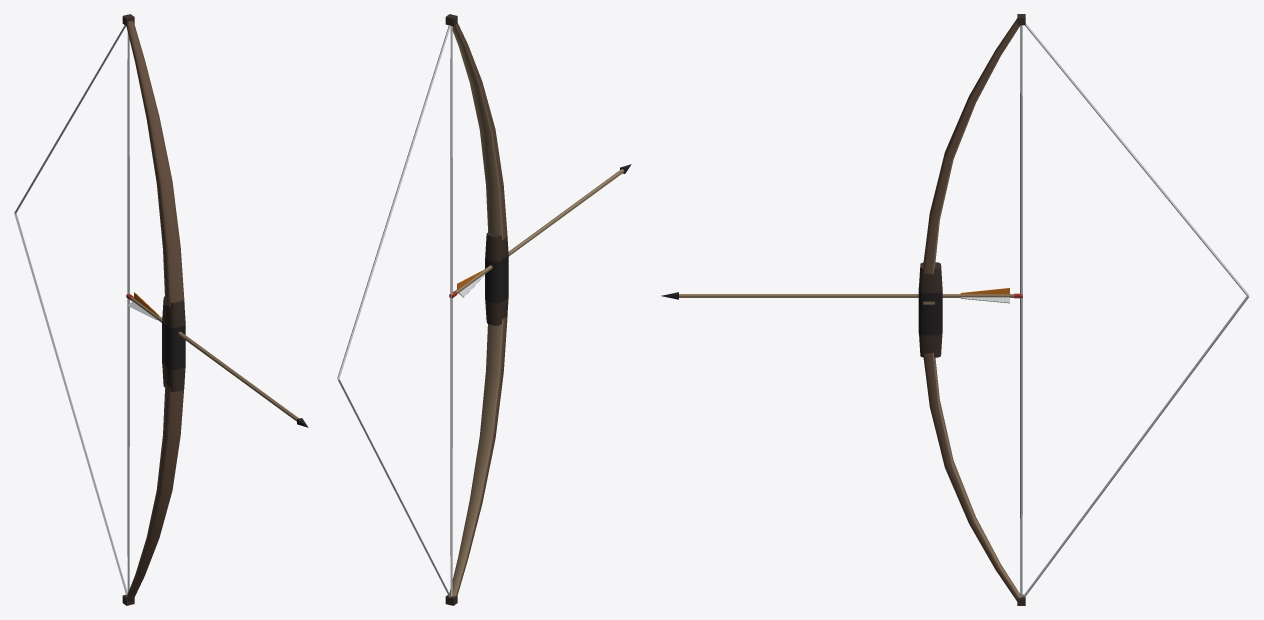
Rendered from bow.glb.
3 renders of one model, left to right at view 1: azimuth 30°, elevation 25°; view 2: azimuth 150°, elevation 25°; view 3: azimuth 270°, elevation 25°, orthographic.
Parts seen in each view (by area): view 1: Weapon, StringDrawn, String, Arrow; view 2: Weapon, String, StringDrawn, Arrow; view 3: Weapon, StringDrawn, Arrow, String.
Part boxes in pixels (x1,y1,x2,y2): Weapon: (122,14,185,605); StringDrawn: (14,25,127,595); String: (127,32,129,593); Arrow: (126,292,308,427); Weapon: (445,14,508,605); String: (450,26,452,596); StringDrawn: (337,25,450,597); Arrow: (449,164,631,298); Weapon: (918,14,1025,605); StringDrawn: (1023,23,1249,596); Arrow: (661,288,1022,303); String: (1020,25,1022,596).
Bounding box in the file's own units: 0.0352 × 1.26 × 1.14.
